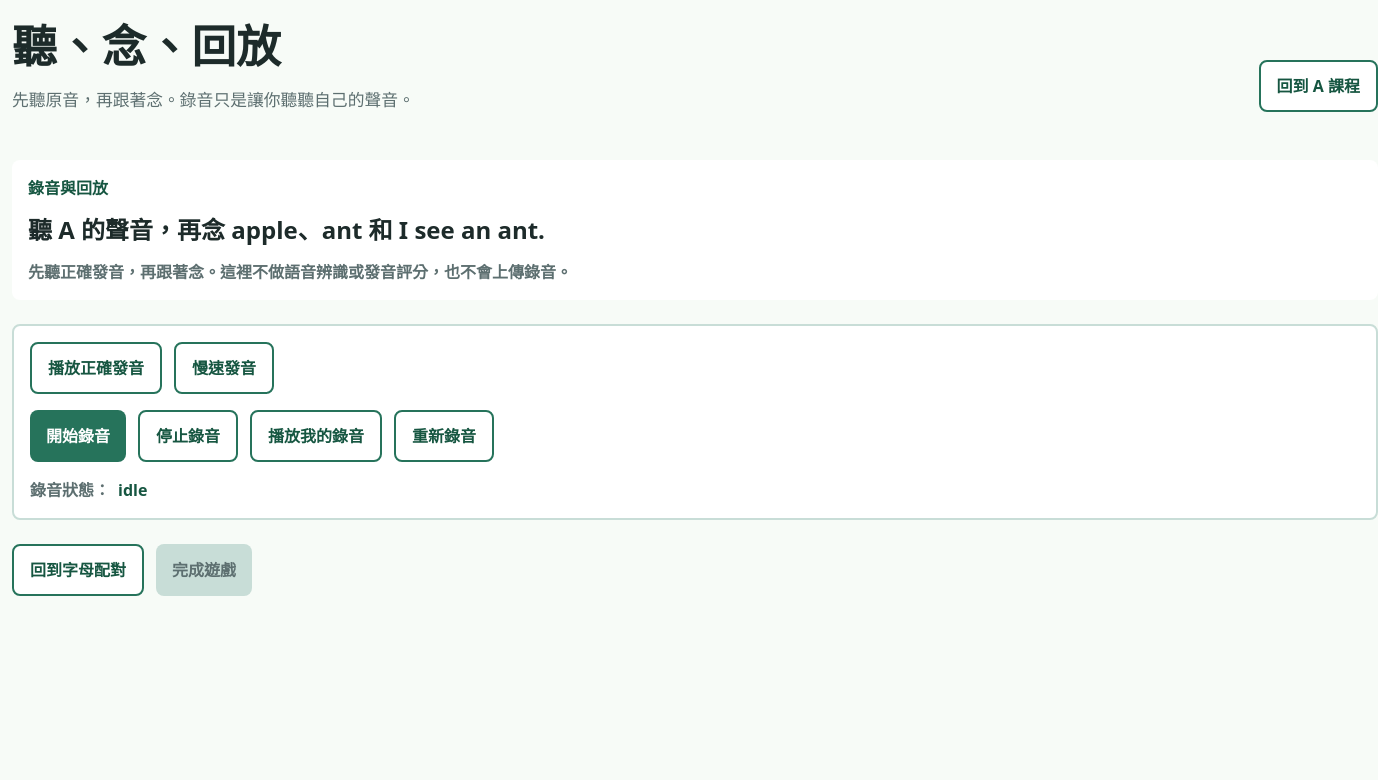
Test: GamePage › 瀏覽器不支援錄音時顯示友善狀態
Click the button "開始錄音" at (78, 436), box [30,410,126,462]
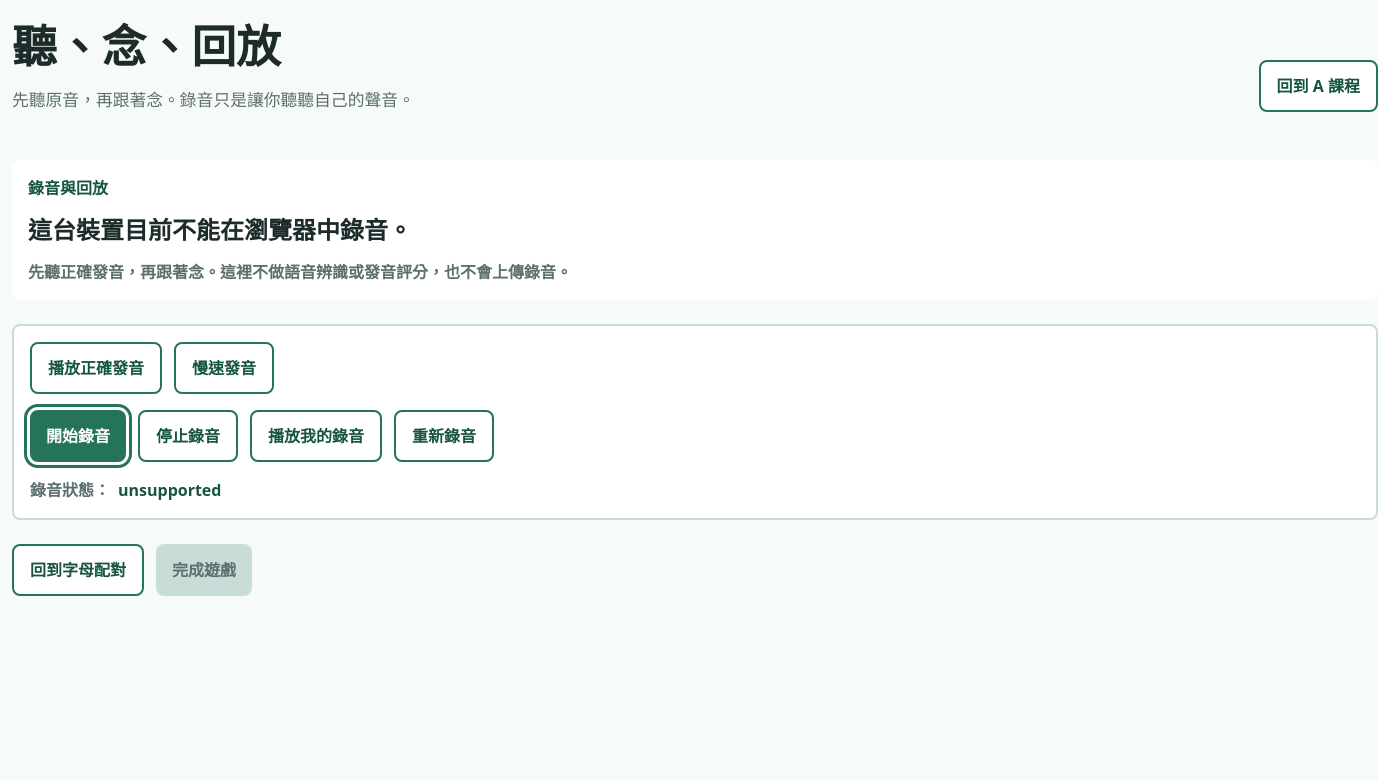
Expected: the heading "這台裝置目前不能在瀏覽器中錄音。" is shown, [28,213,412,246]
